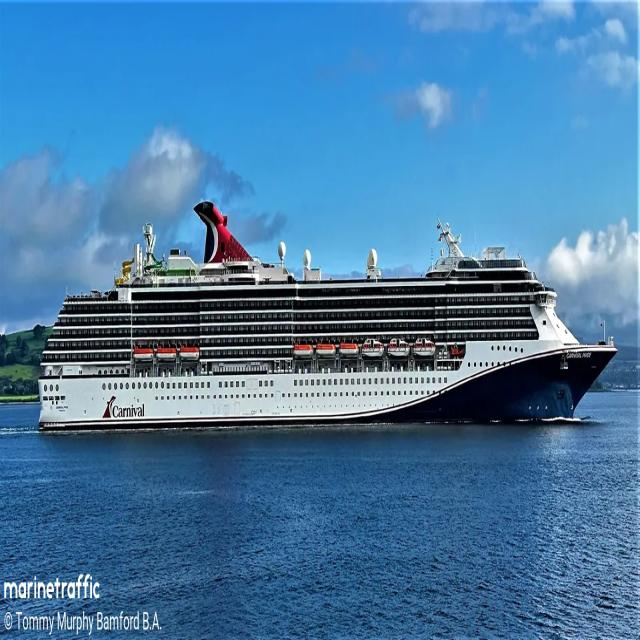Cruise: (39, 201, 618, 431)
